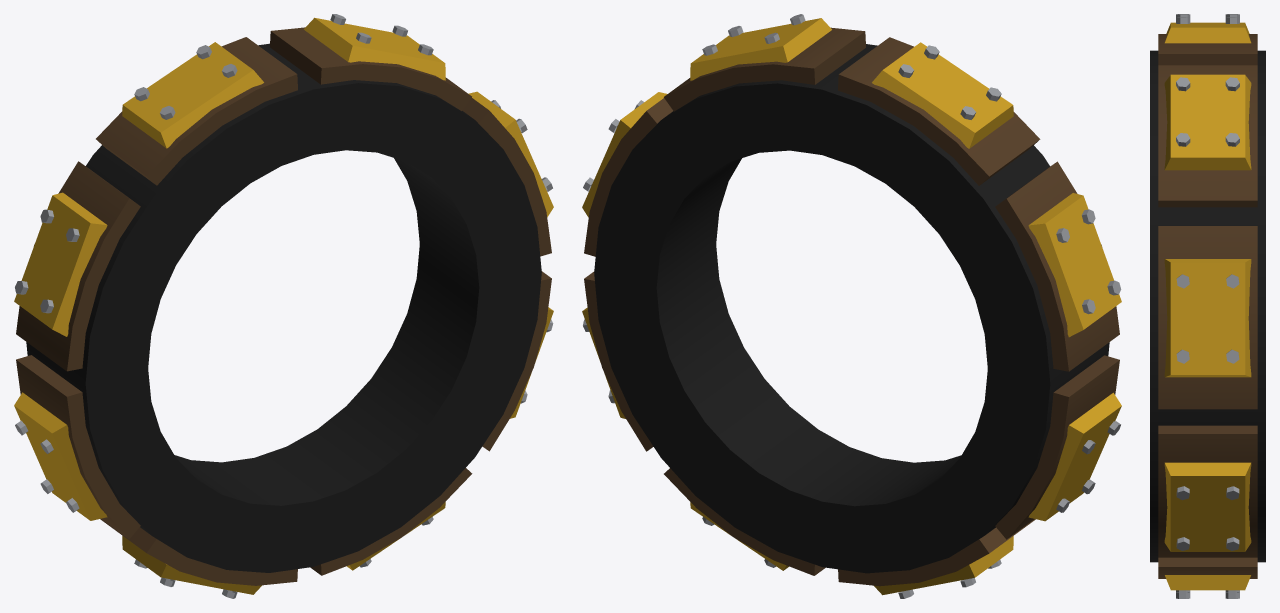
File: kt1_coil.obj
The picture shows the model from 3 angles, left to right: view 1: azimuth 30°, elevation 25°; view 2: azimuth 150°, elevation 25°; view 3: azimuth 270°, elevation 25°; orthographic projection. The views are drawn at different scales.
Parts seen in each view (by area): view 1: kt1_coil; view 2: kt1_coil; view 3: kt1_coil.
Boxes of the visible parts, box(x1,y1,x2,y2) form: kt1_coil: box(14, 14, 553, 598); kt1_coil: box(582, 14, 1121, 598); kt1_coil: box(1150, 14, 1265, 598).
Bounding box in the file's own units: 2.77 × 2.77 × 0.56.
